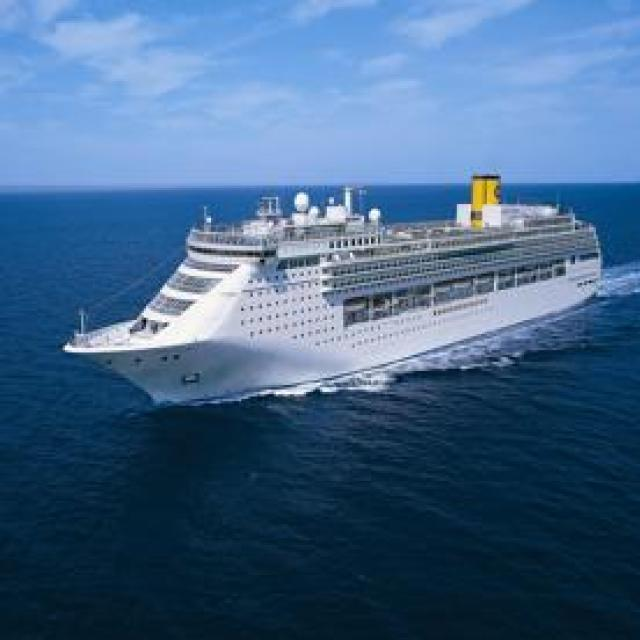passenger ship: (72, 170, 608, 400)
